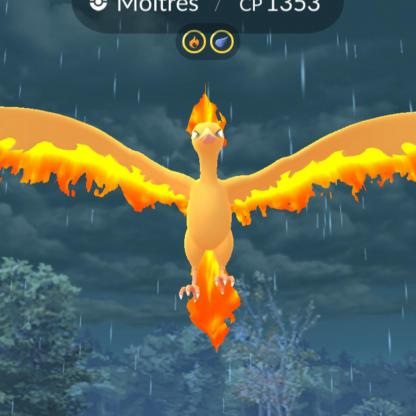Moltres: (1, 10, 416, 416)
